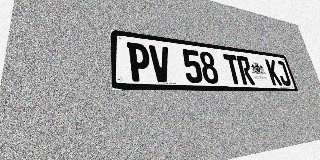5: (182, 49, 204, 83)
8: (198, 51, 220, 84)
J: (275, 60, 292, 86)
K: (265, 59, 282, 85)
P: (127, 42, 152, 82)
R: (236, 55, 255, 85)
T: (223, 54, 243, 84)
V: (149, 45, 172, 82)
